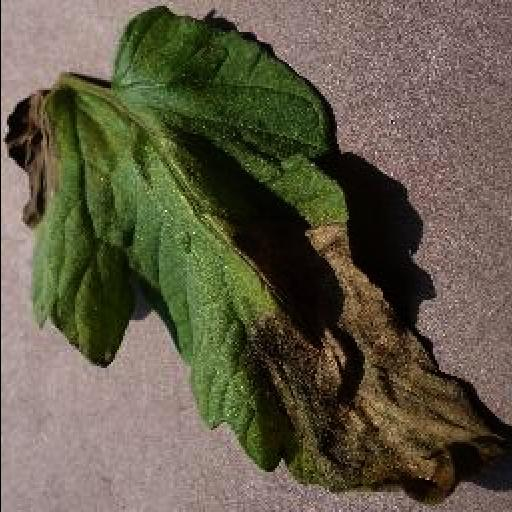disease_tomato: (0, 7, 512, 493)
